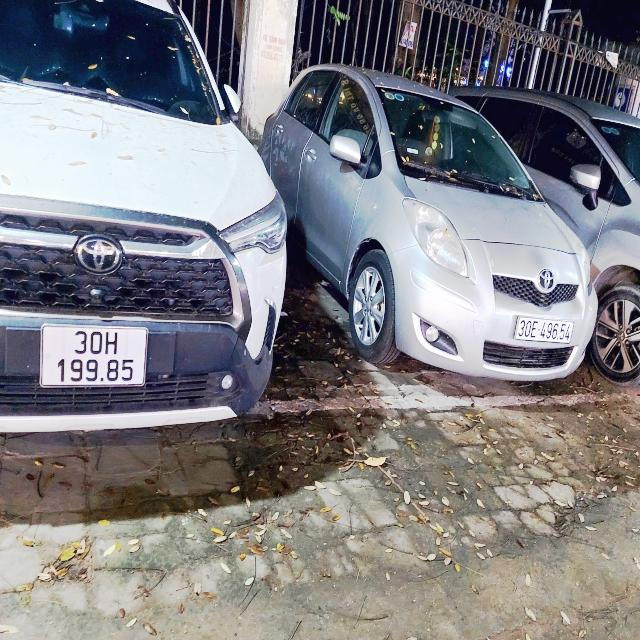license_plate: (39, 323, 152, 390), (515, 316, 576, 346)
